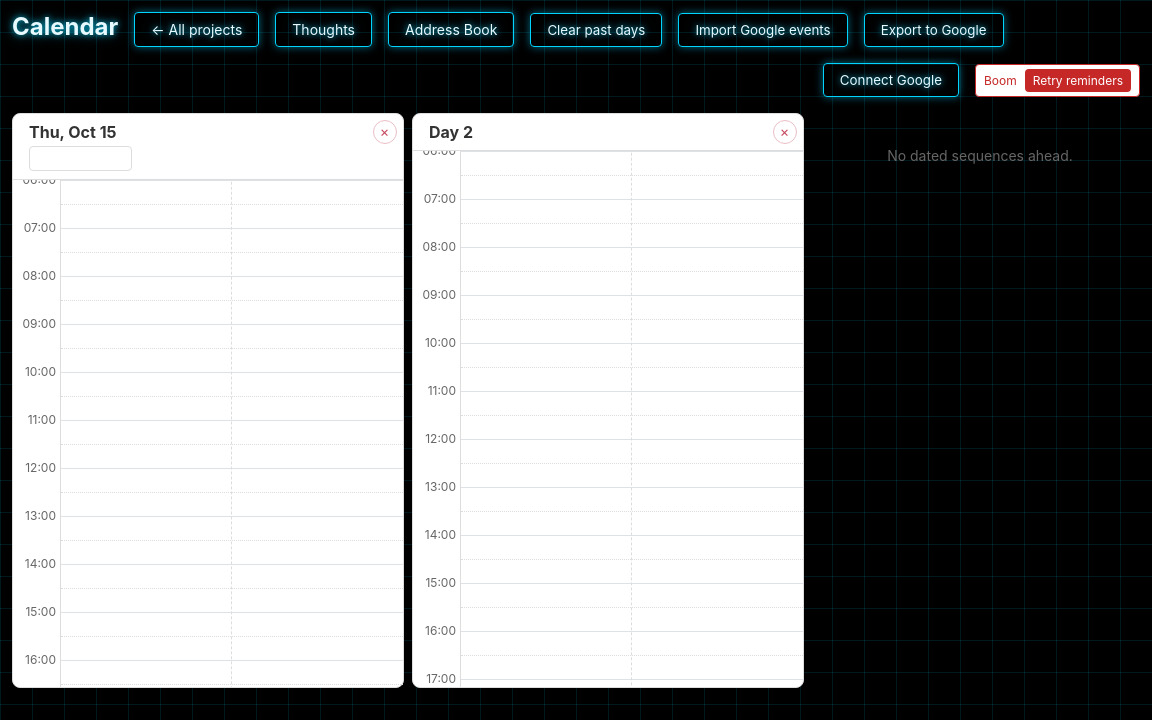
Test: CalendarPage reminders › shows a retry notice when the reminders load fails and reloads on click
(page scrolled)
Click the button "Retry reminders". click: coordinates (1078, 80)
box: [1025,69,1131,92]
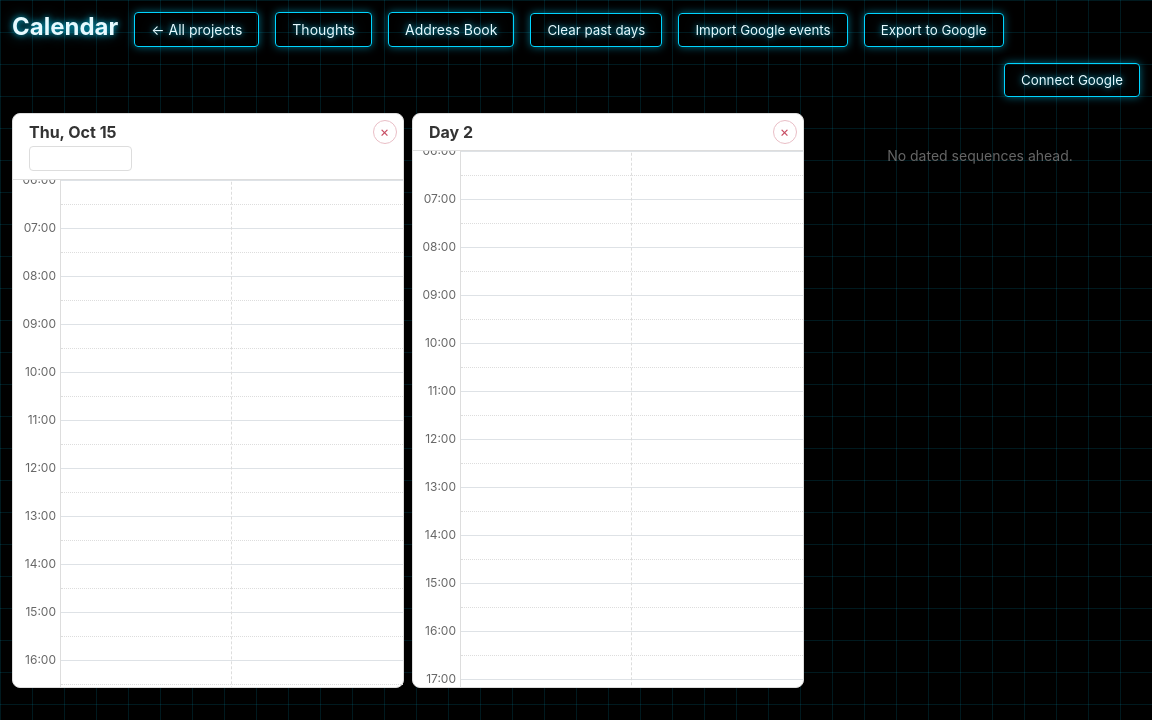
Now the text "Boom" is gone
